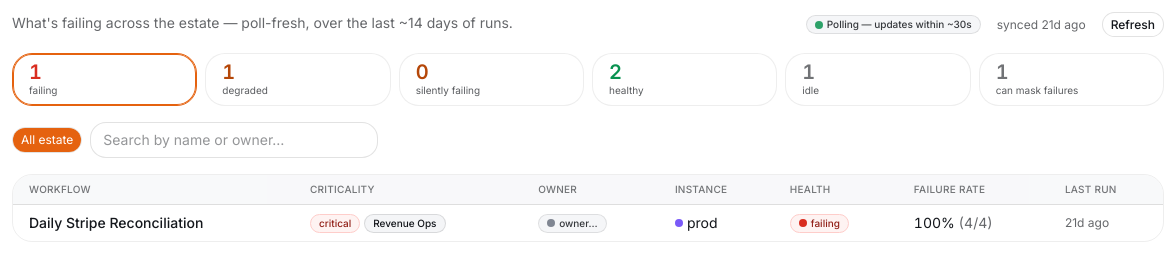
Test case: Health view — UI-presence (rule 11) › S6.3 — a can-mask-failures tile filters to the config-risk set (distinct from health states)
The image size is (1176, 259).
Step 1. Click the button with test id "health-tile-can-mask" → (1071, 80), box [979,53,1164,106]
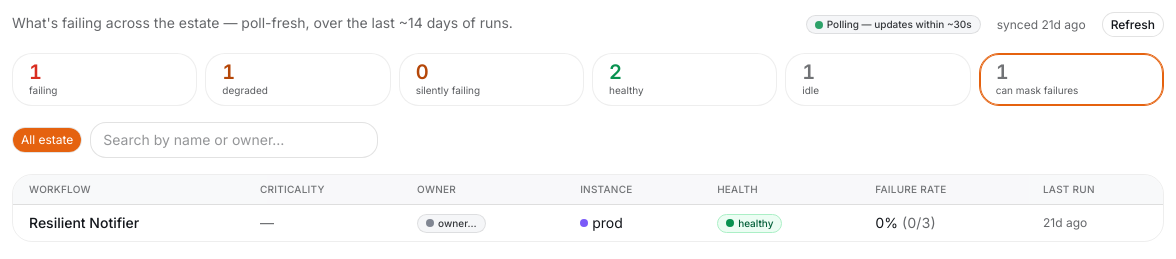
Check: the text "Resilient Notifier" is shown, box [13,205,244,241]
